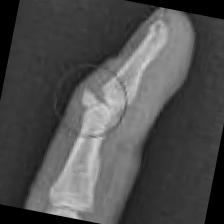impacted-fracture: (24, 0, 203, 224)
